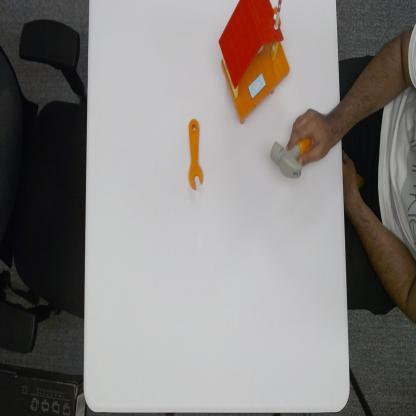Hammer: (269, 135, 312, 184)
Hand: (288, 105, 340, 167)
House: (217, 0, 291, 127)
Screwdriver: (187, 118, 204, 192)
